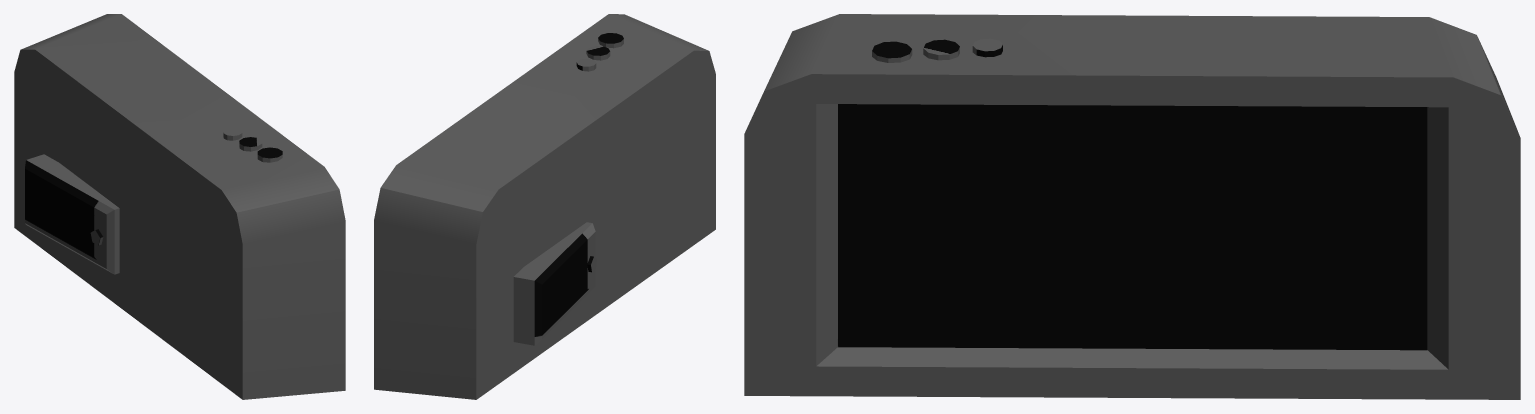
File: Digiclock.fbx
3 views of the same model, side by side, from view 1: azimuth 30°, elevation 25°; view 2: azimuth 150°, elevation 25°; view 3: azimuth 270°, elevation 25° (orthographic). The views are drawn at different scales.
Visible parts, largest first — view 1: Digital_clock_mainbody, Digital_clock_battery_cover, Digital_clock; view 2: Digital_clock_mainbody, Digital_clock_battery_cover, Digital_clock; view 3: Digital_clock_mainbody, Digital_clock.
Part boxes in pixels (x1,y1,x2,y2): Digital_clock_mainbody: (14, 14, 345, 399); Digital_clock_battery_cover: (25, 154, 119, 274); Digital_clock: (223, 127, 282, 162); Digital_clock_mainbody: (374, 14, 715, 399); Digital_clock_battery_cover: (513, 222, 595, 345); Digital_clock: (576, 33, 623, 71); Digital_clock_mainbody: (744, 14, 1520, 399); Digital_clock: (872, 38, 1002, 62).
Bounding box in the file's own units: 0.6879 × 1.13 × 2.45.
